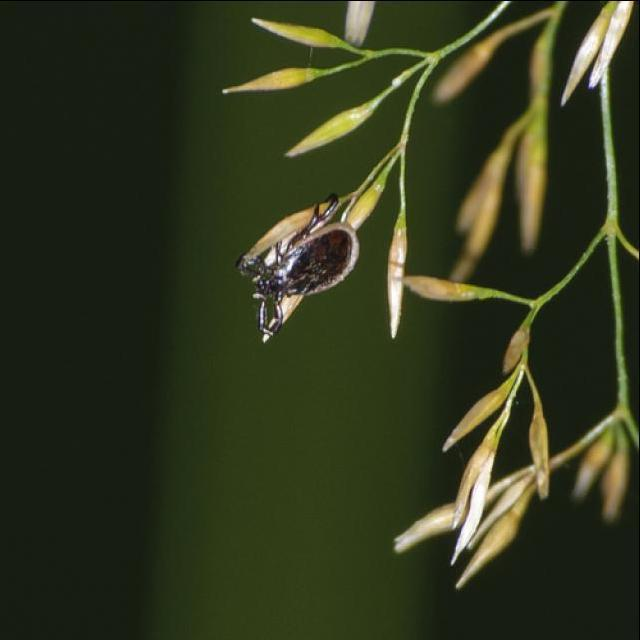Ixodes Ricinus-M: (241, 192, 361, 340)
